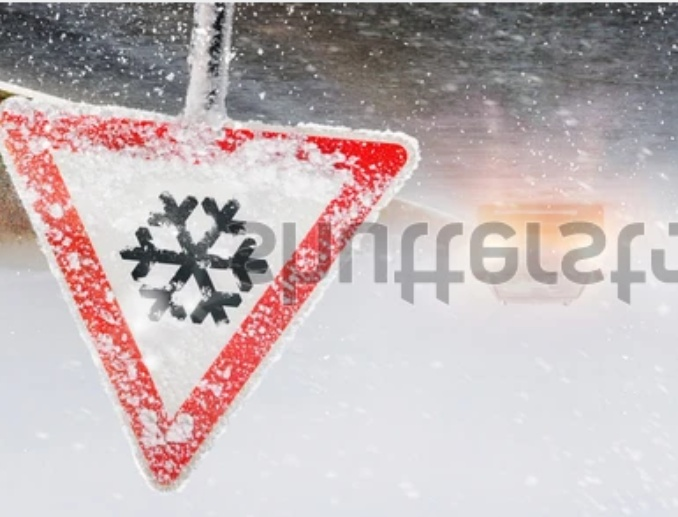Snowy road: (0, 81, 421, 486)
